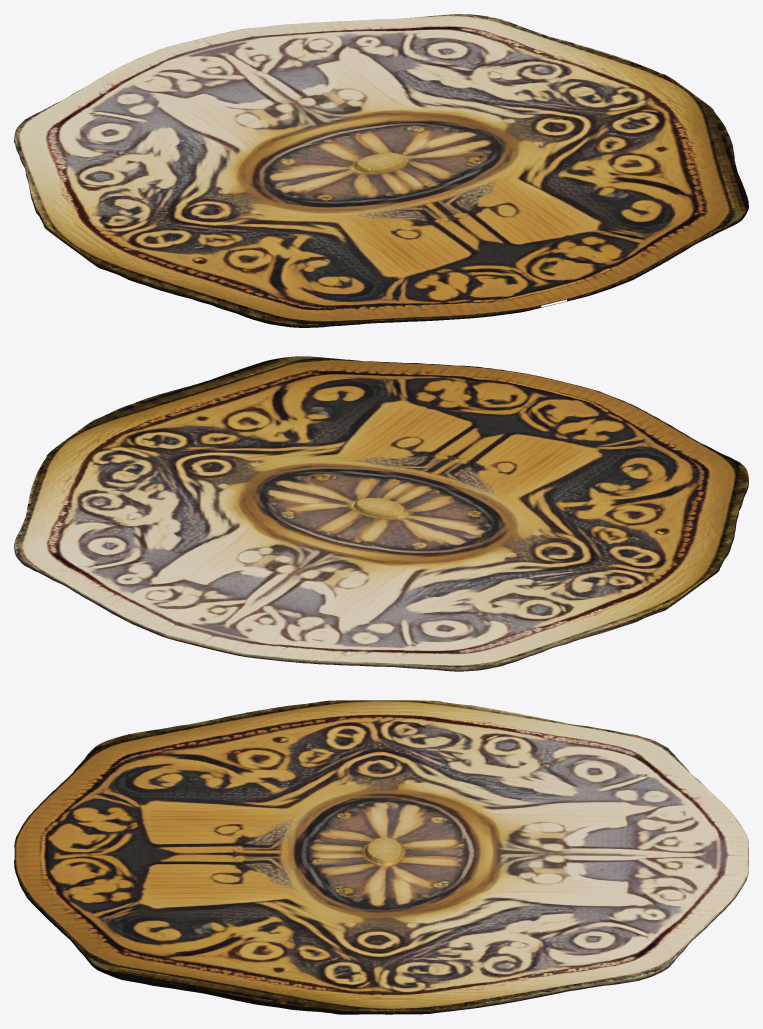
Rendered from wooden-belt-buckle-vintage.jpeg.glb.
The picture shows the model from 3 angles, top to bottom: view 1: azimuth 30°, elevation 25°; view 2: azimuth 150°, elevation 25°; view 3: azimuth 270°, elevation 25°; orthographic projection. The views are drawn at different scales.
Parts seen in each view (by area): view 1: world; view 2: world; view 3: world.
Part boxes in pixels (box(x1,y1,x2,y2)): world: box(14, 14, 748, 327); world: box(14, 356, 748, 671); world: box(14, 700, 748, 1014).
Bounding box in the file's own units: 1 × 0.0225 × 1.
Materials: 1 (1 with a texture image).
